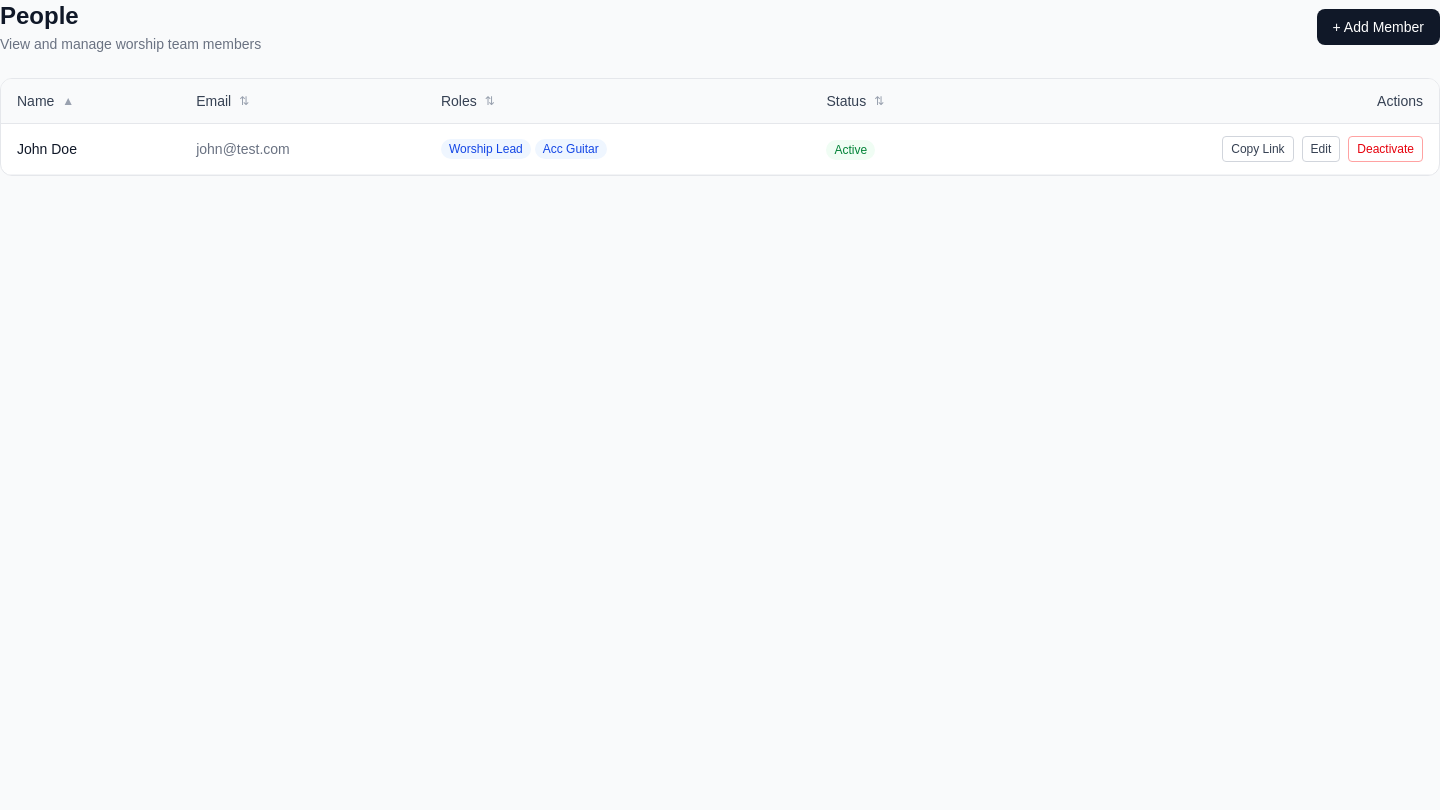
Test: AdminPeoplePage — Custom Permissions UI › shows Custom Permissions toggle in Edit Member modal
The image size is (1440, 810).
Click the button "Edit".
click(1321, 149)  # box [1302,136,1340,162]
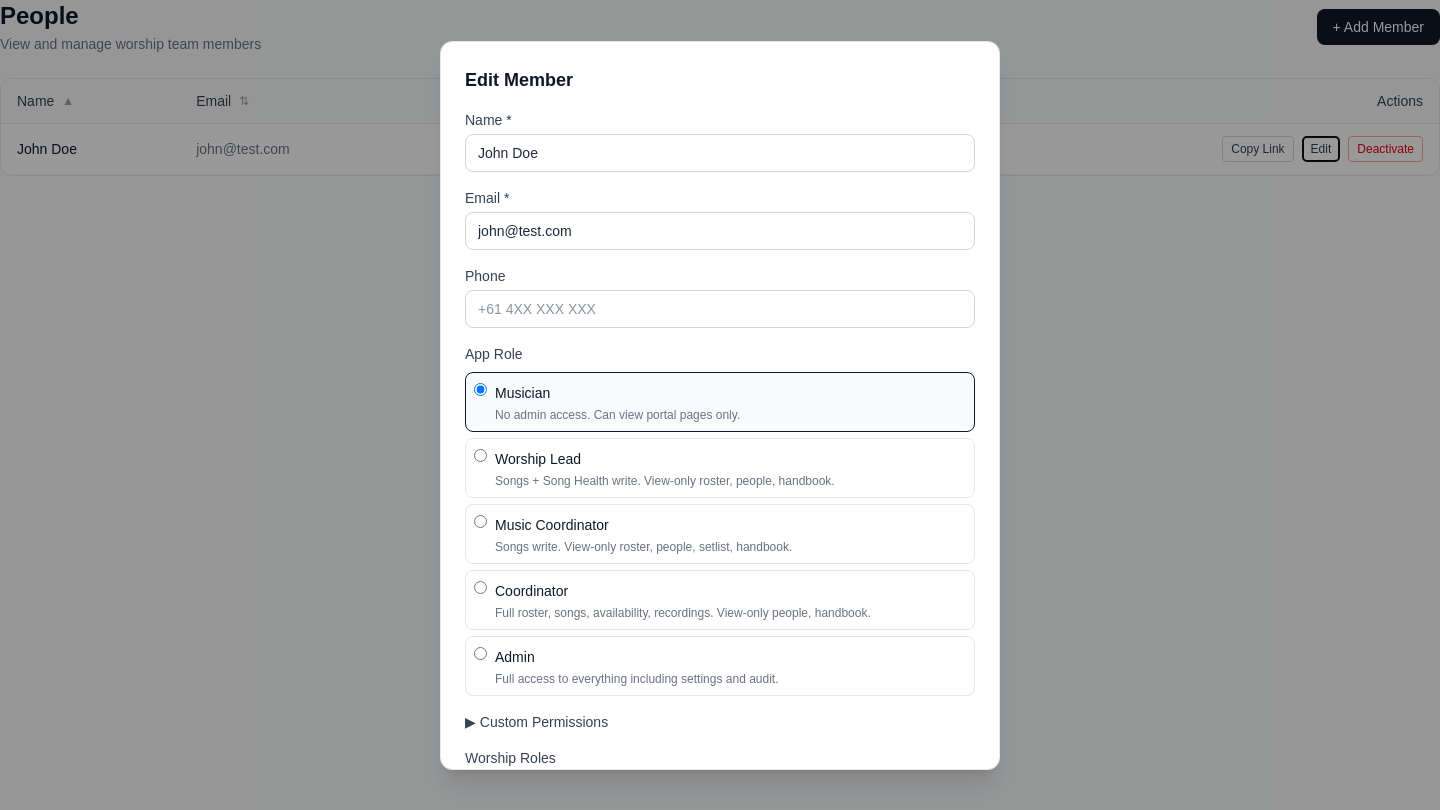
Expected: the button "▶ Custom Permissions" is shown, [465,712,608,732]
